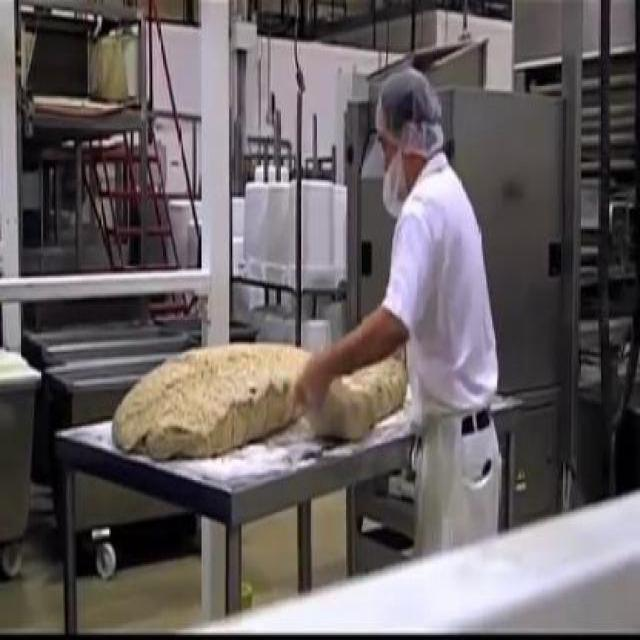bare_hand: (290, 349, 355, 428)
